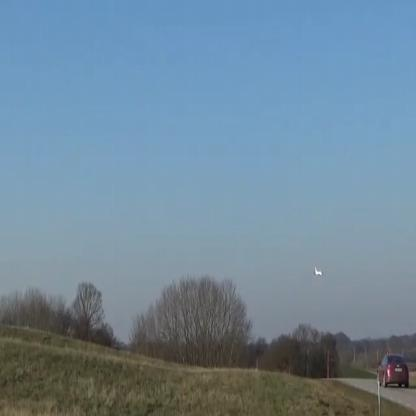CIV_Plane: (314, 266, 322, 277)
